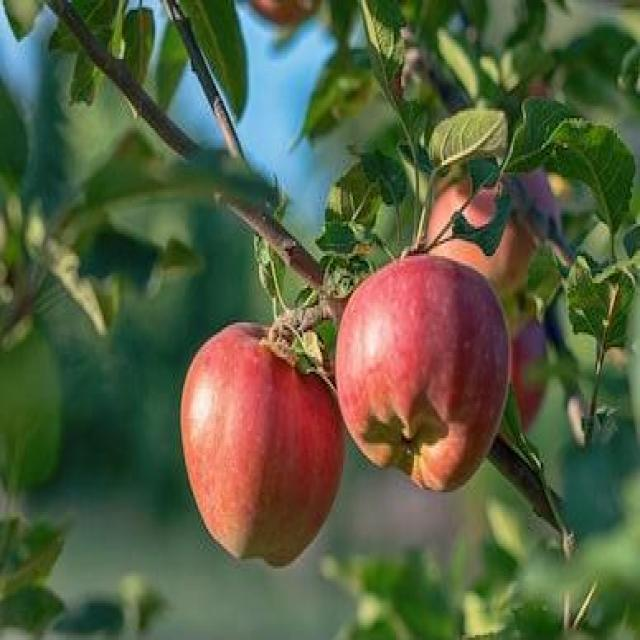apple: (335, 252, 513, 498), (183, 318, 344, 568)
